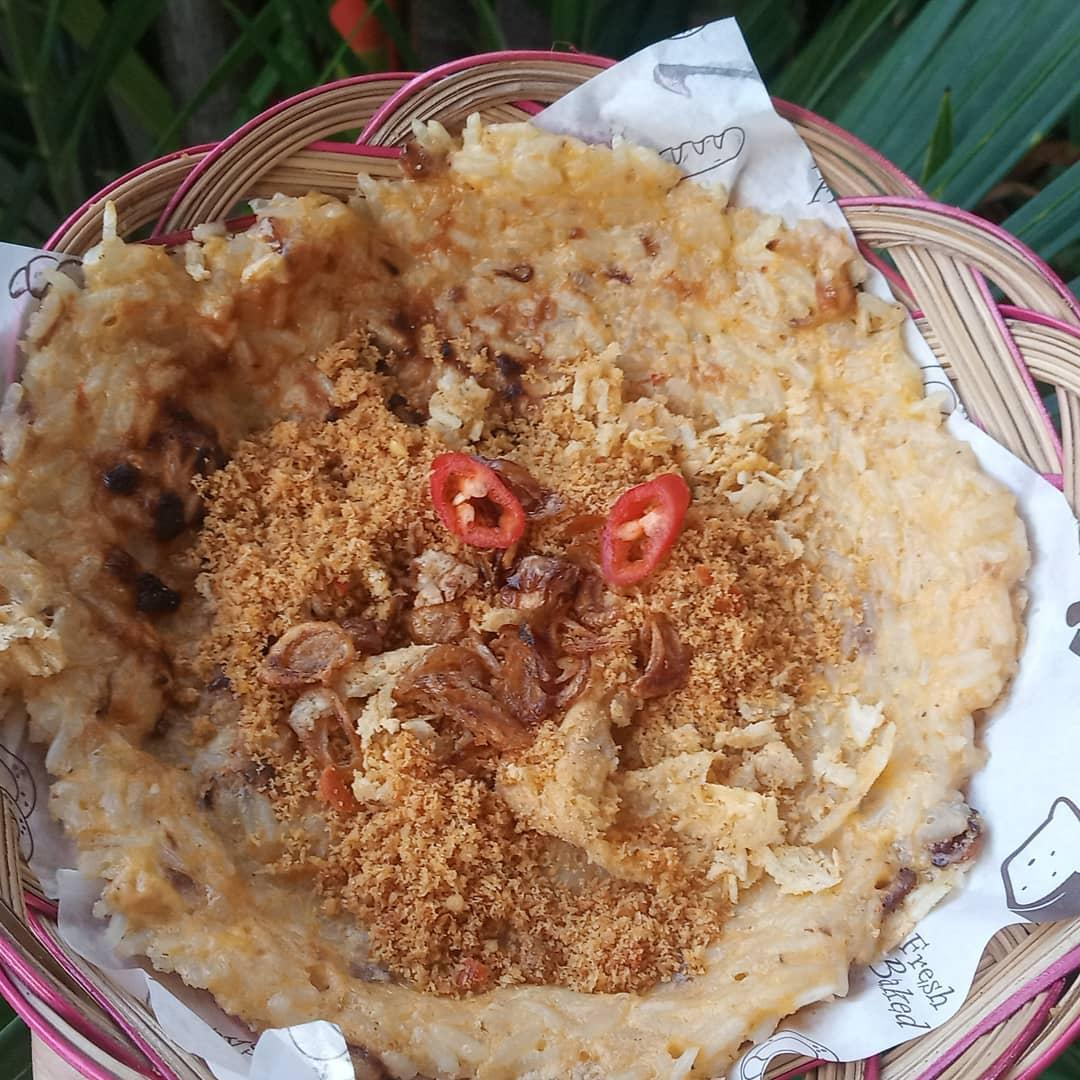kerak_telor: (26, 126, 1033, 1080)
